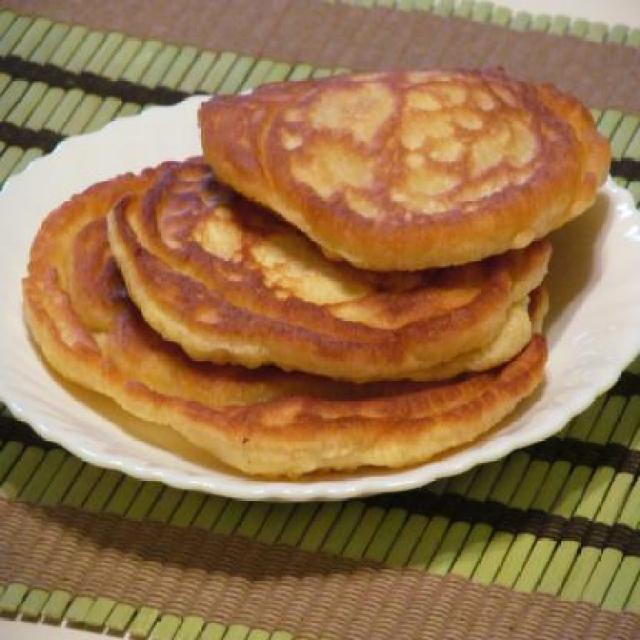Pancake: (21, 152, 554, 480), (196, 69, 612, 268)
